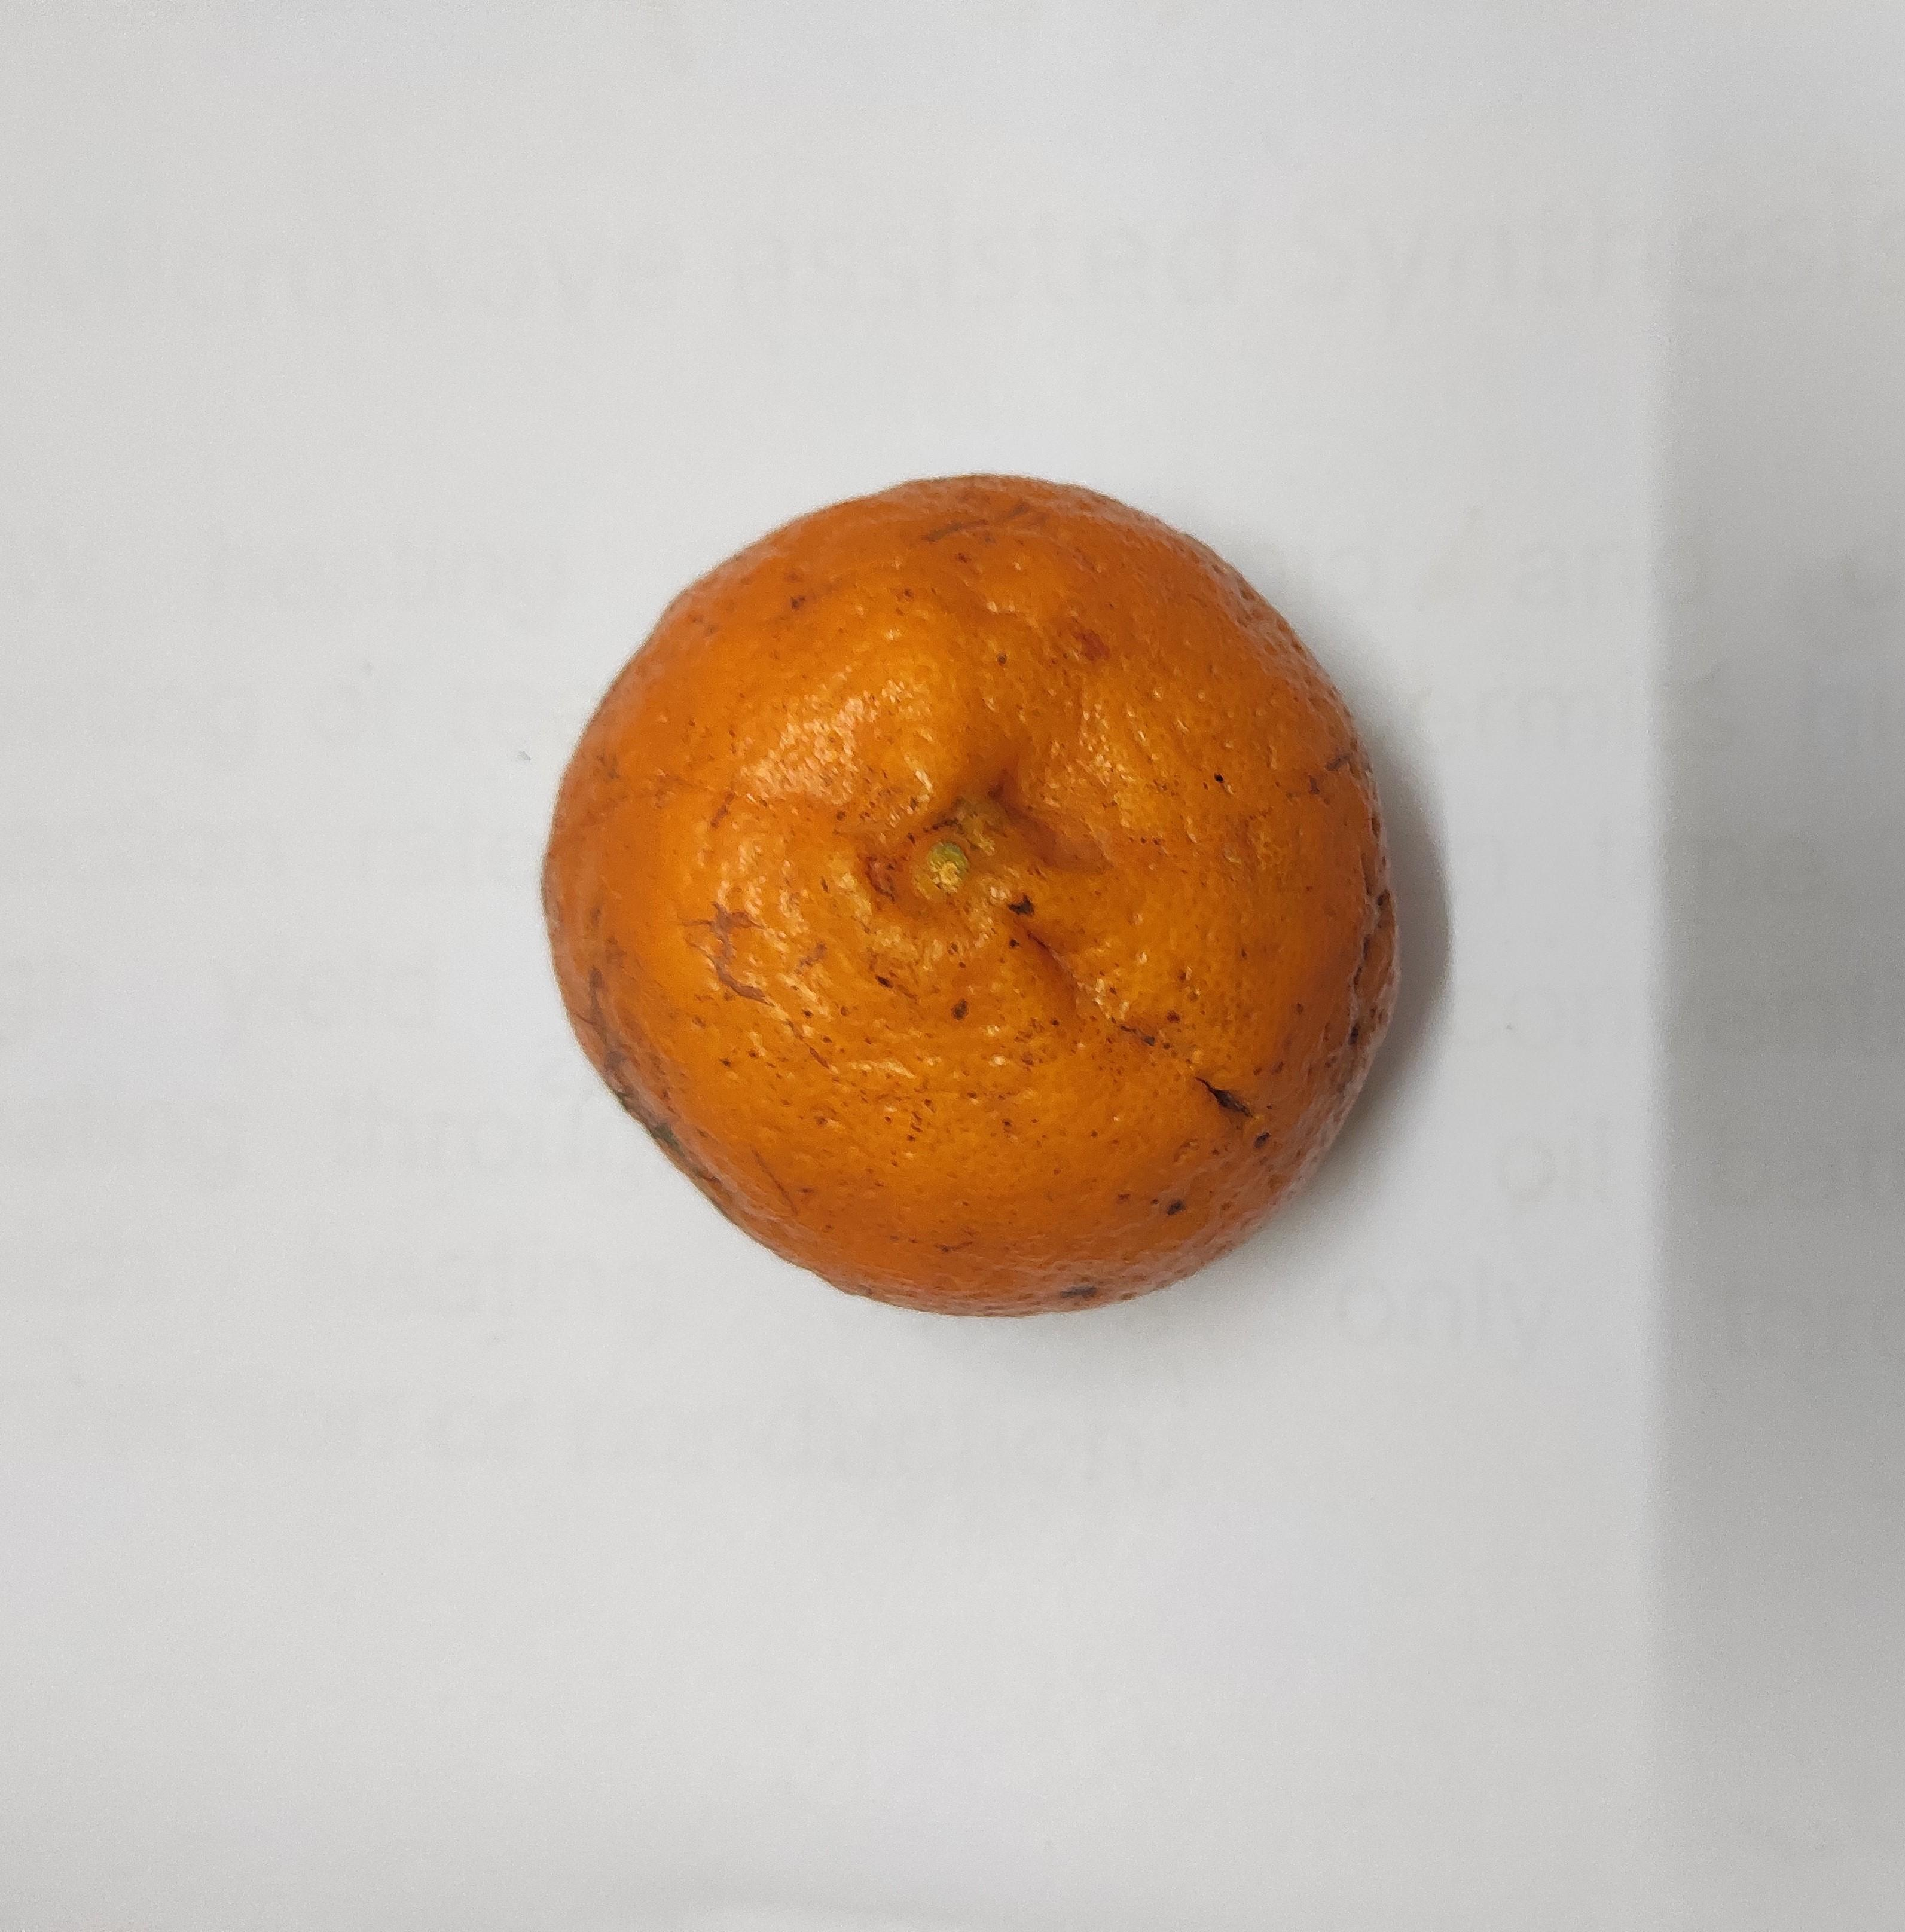Ripe: (520, 502, 1387, 1327)
